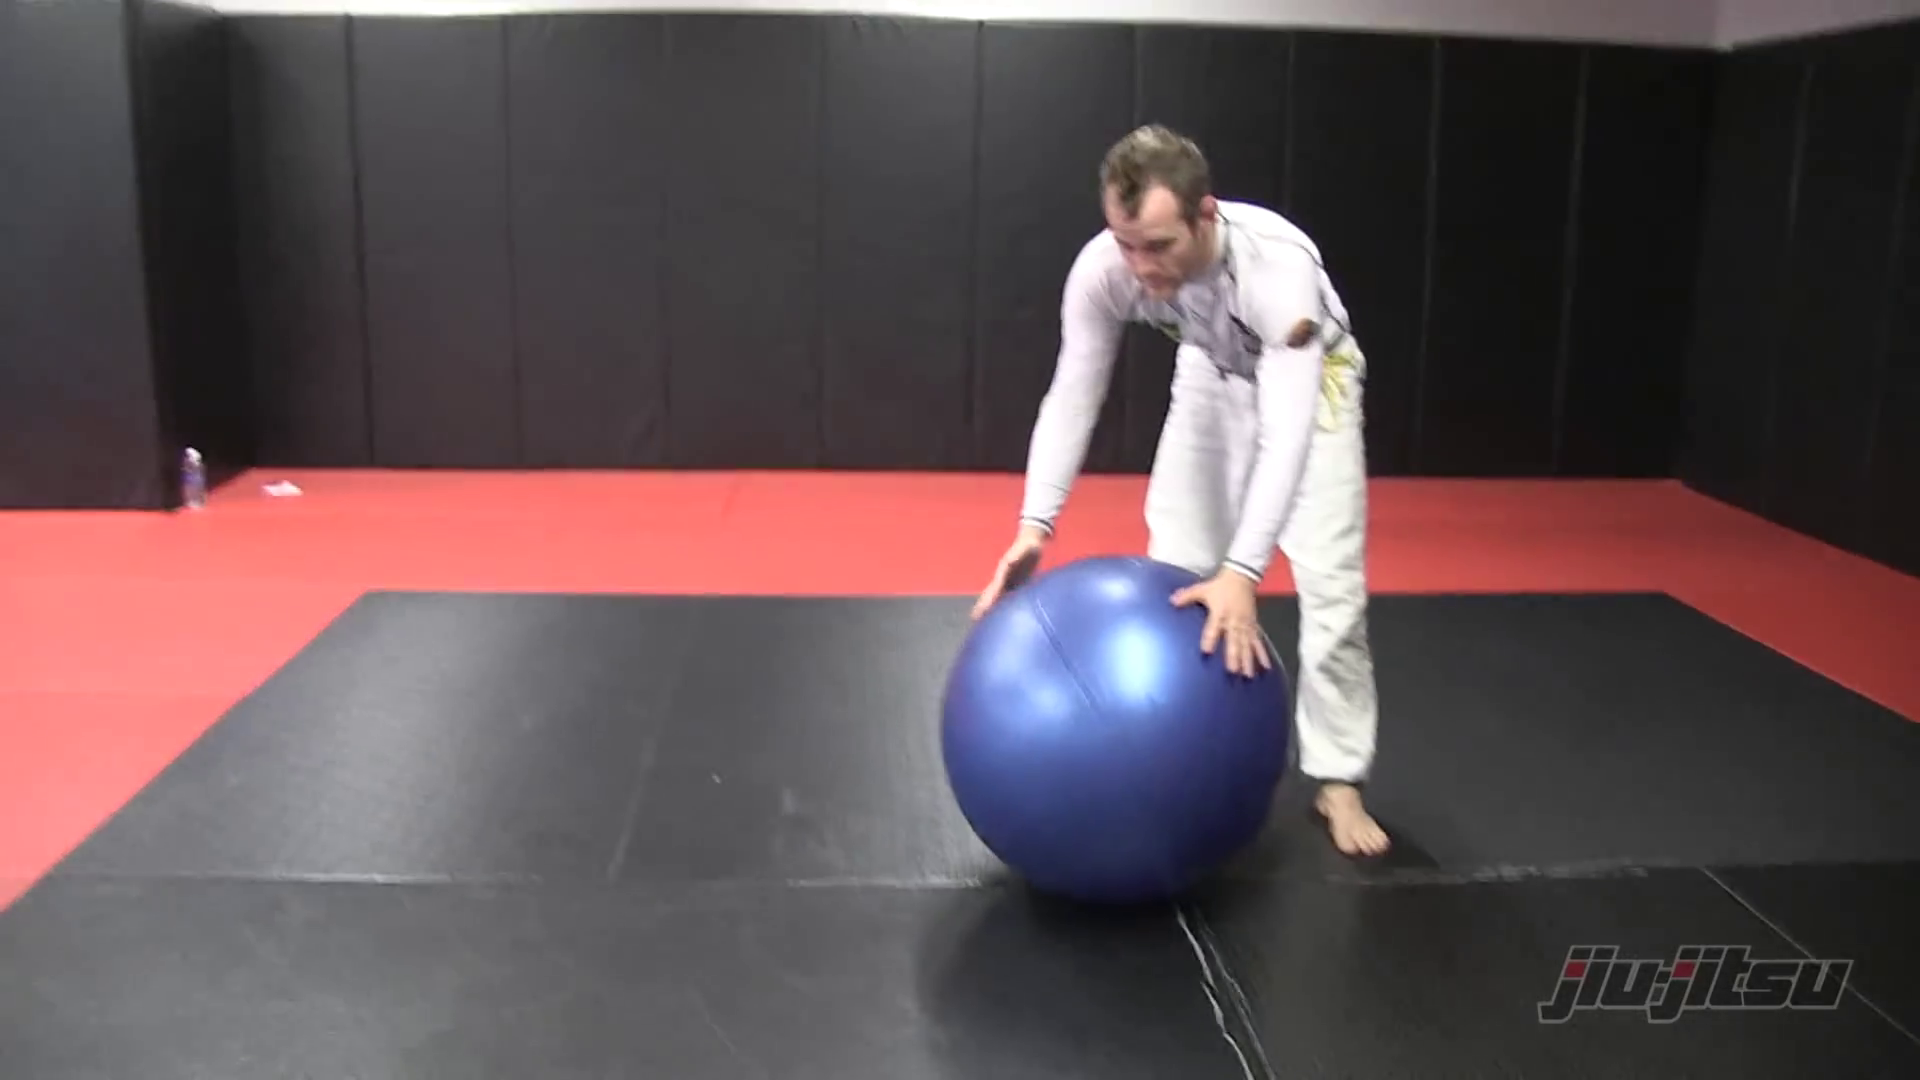yogaball: (930, 562, 1298, 899)
